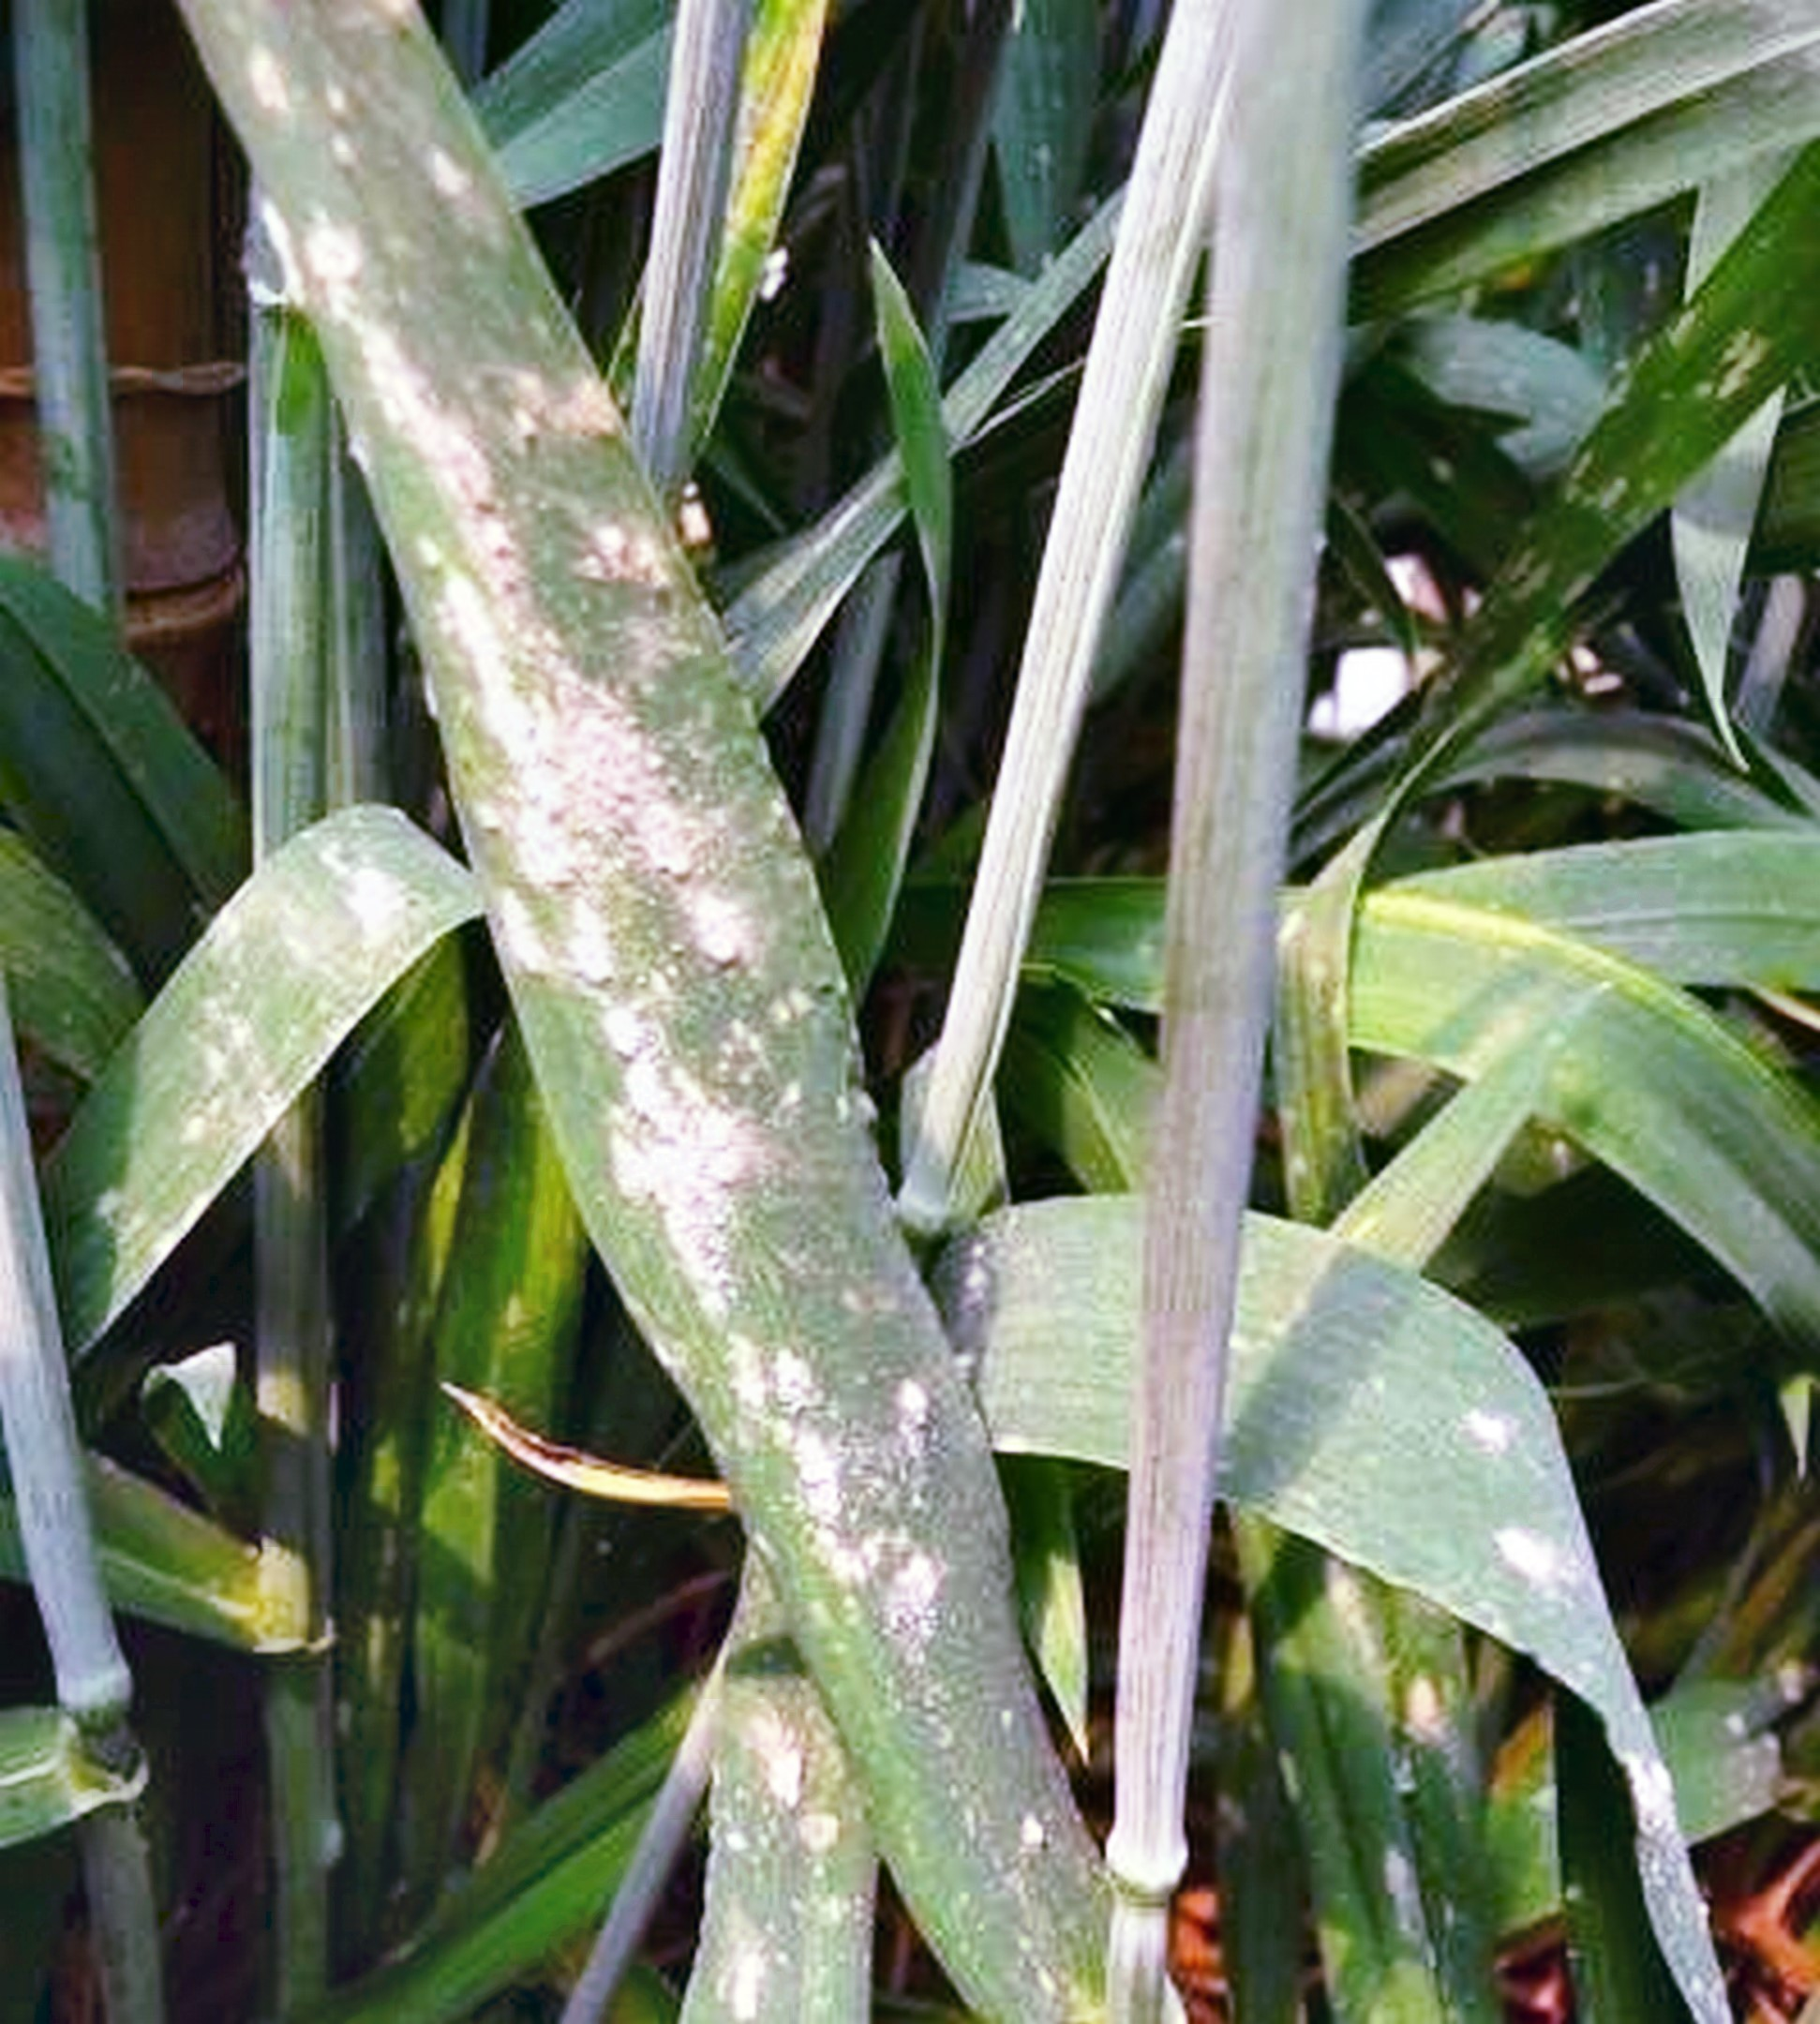Powdery Mildew: (374, 355, 989, 1718)
